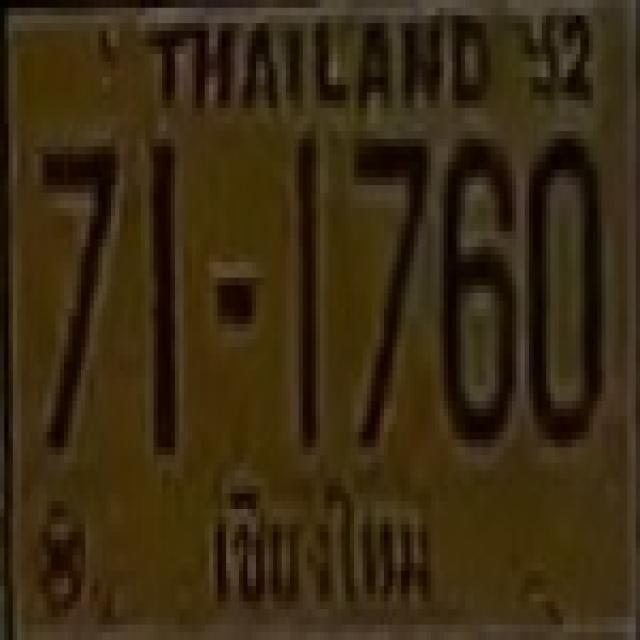0: (527, 131, 599, 440)
1: (149, 139, 175, 447), (294, 128, 316, 444)
6: (439, 131, 512, 440)
7: (38, 139, 116, 447), (350, 131, 427, 440)
CMI: (198, 466, 437, 618)
